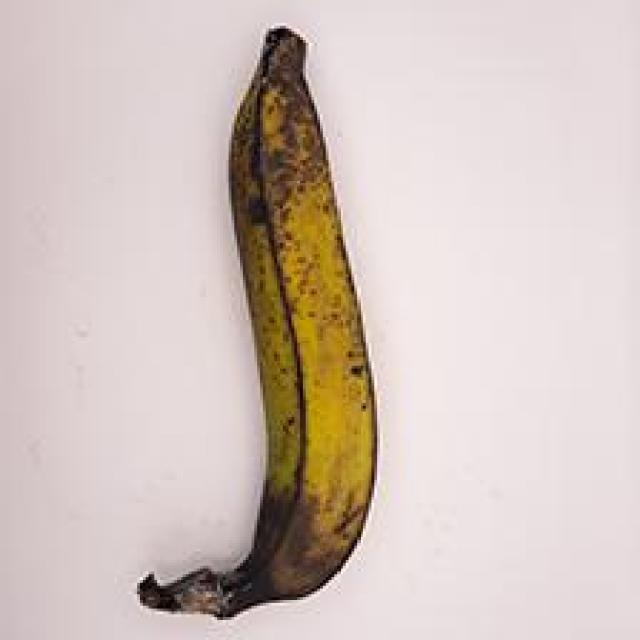Overripe: (109, 17, 426, 631)
